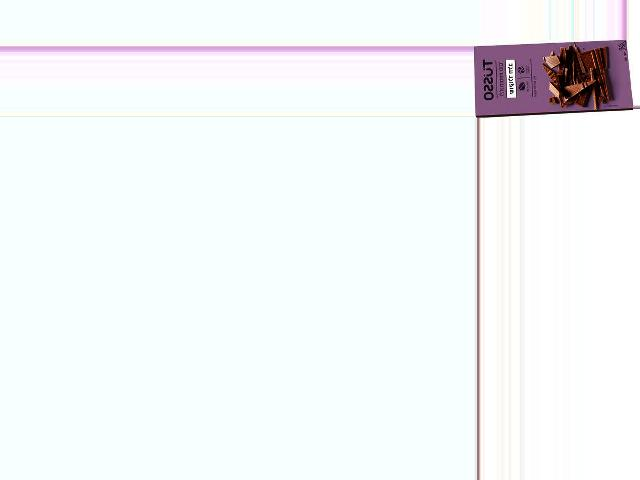chocolate: (477, 44, 633, 113)
